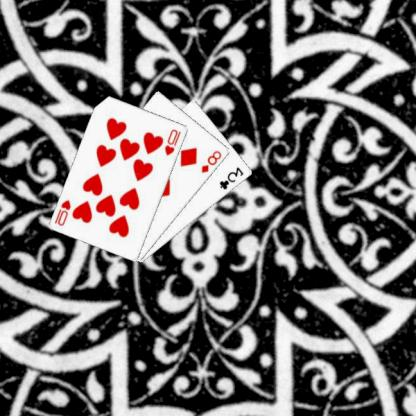10H: (54, 196, 74, 228), (164, 127, 184, 156)
3C: (218, 164, 247, 191)
8D: (200, 148, 225, 174)
